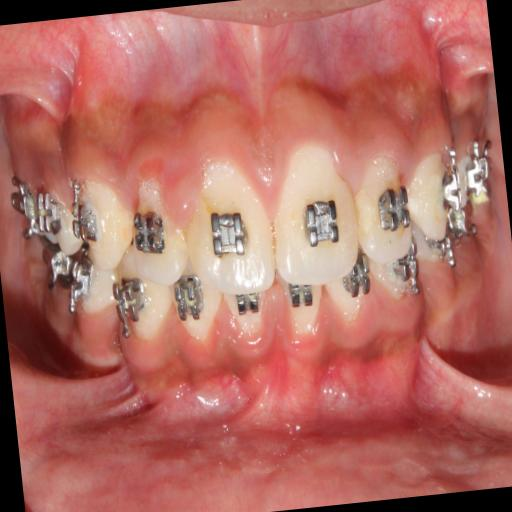correct_brace: (204, 200, 250, 264), (298, 193, 343, 249), (374, 176, 412, 242), (132, 202, 168, 256)
incorrect_brace: (124, 174, 190, 290), (350, 152, 416, 263)
